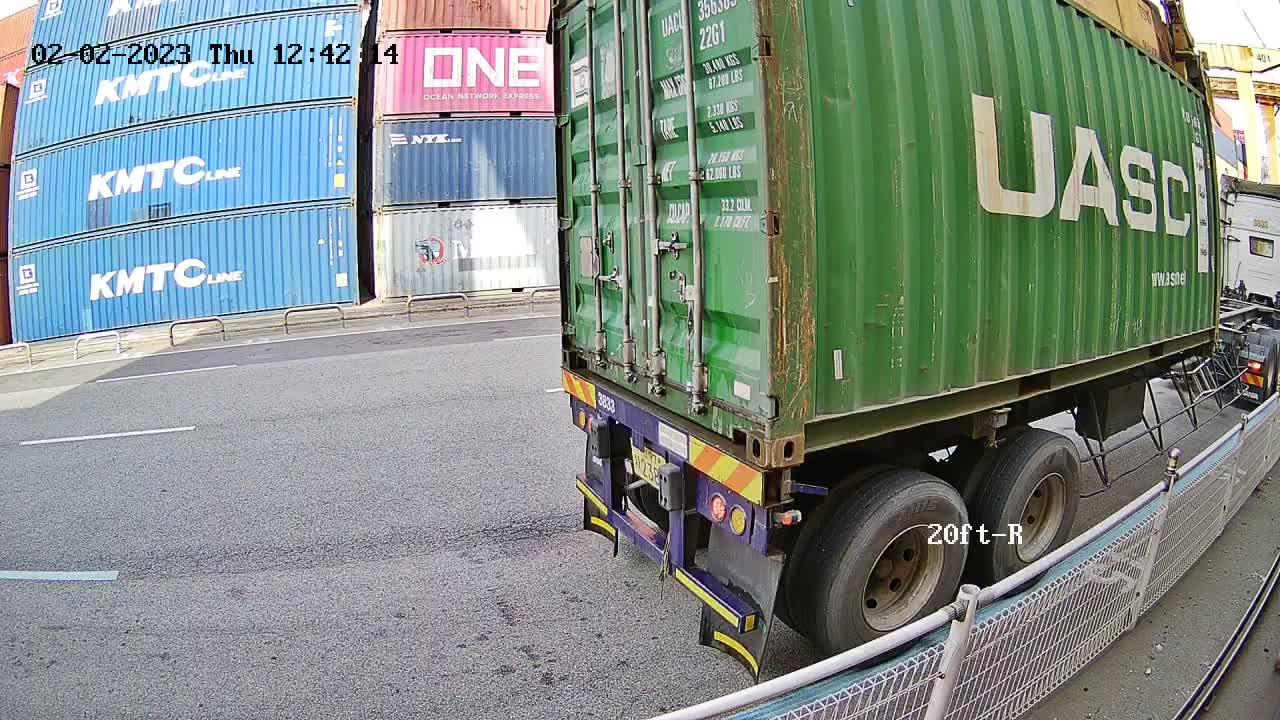Chassis: (563, 372, 792, 511)
Cone: (762, 467, 792, 507)
Hole_L: (769, 397, 836, 467), (559, 328, 595, 380)
Hole_R: (719, 381, 770, 470)
Tire: (823, 487, 967, 667), (994, 439, 1084, 593)
